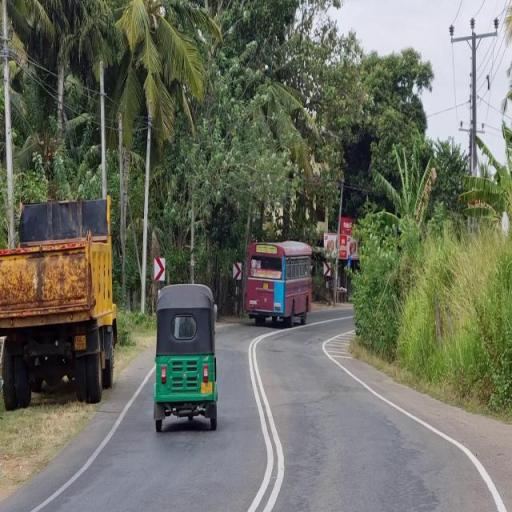double_white_line: (325, 329, 507, 510), (28, 364, 154, 511), (243, 330, 288, 512)
